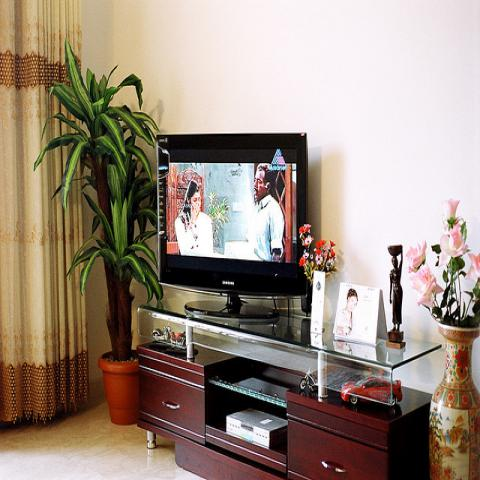car: (342, 378, 402, 405)
